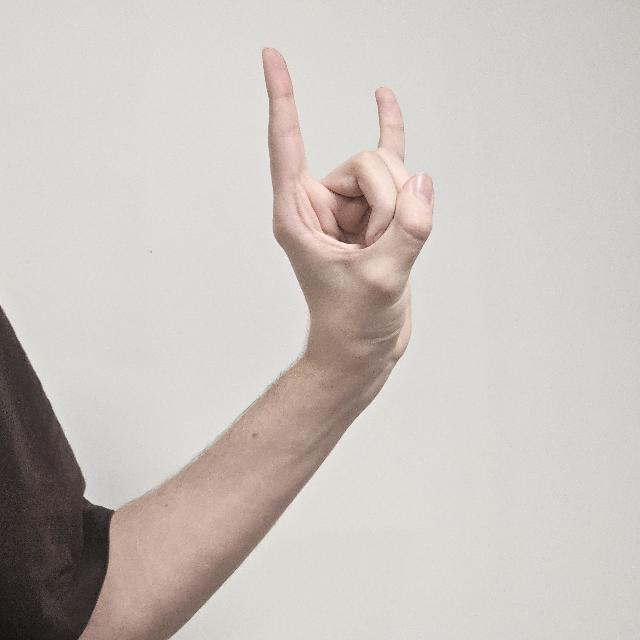L: (260, 46, 438, 390)
